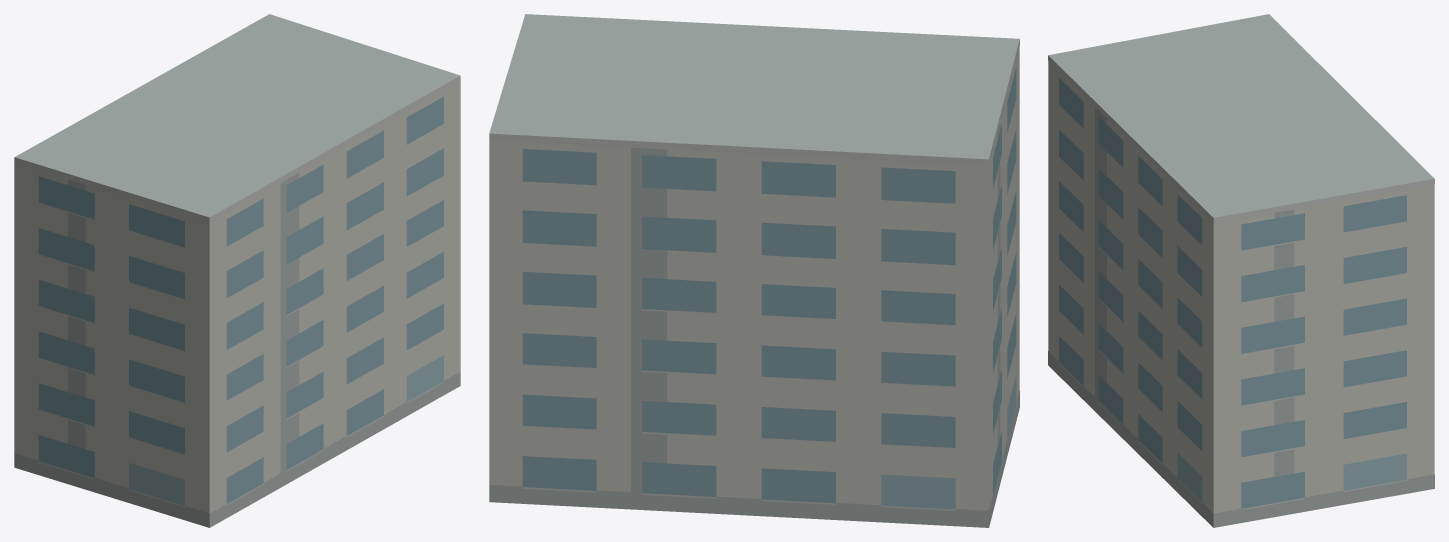
Rendered from survey-upis-32889204.glb.
3 renders of one model, left to right at view 1: azimuth 30°, elevation 25°; view 2: azimuth 150°, elevation 25°; view 3: azimuth 270°, elevation 25°, orthographic. The views are drawn at different scales.
Parts seen in each view (by area): view 1: survey-upis-32889204.tmp; view 2: survey-upis-32889204.tmp; view 3: survey-upis-32889204.tmp.
Boxes of the visible parts, bbox=[...] form: survey-upis-32889204.tmp: bbox=[14, 14, 460, 527]; survey-upis-32889204.tmp: bbox=[489, 14, 1019, 527]; survey-upis-32889204.tmp: bbox=[1048, 14, 1434, 527].
Size of the model in its own units: 18.76 by 13.3 by 15.04.
